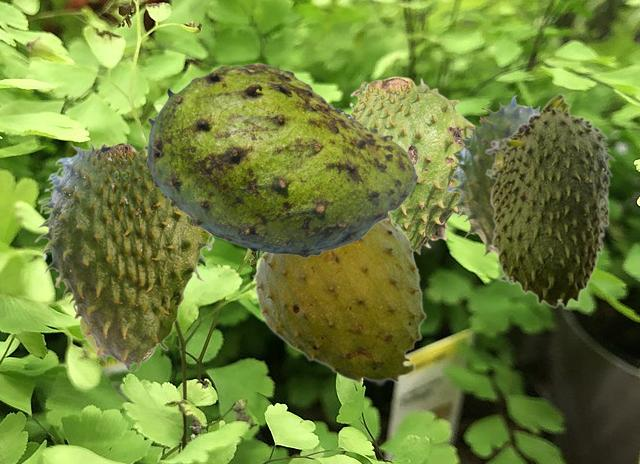guyabano: (144, 62, 417, 257), (34, 141, 215, 371), (251, 212, 426, 386), (485, 92, 615, 308), (349, 76, 476, 255), (447, 95, 540, 257)
